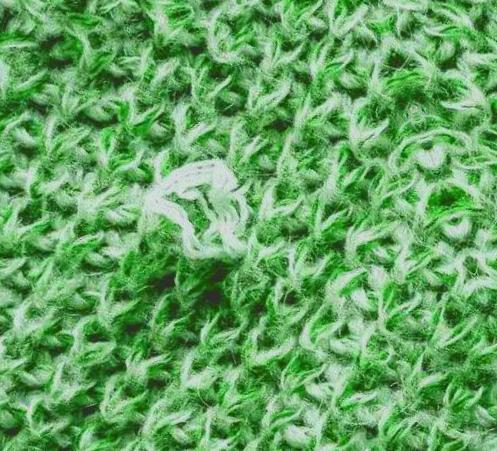snag: (140, 155, 254, 273)
